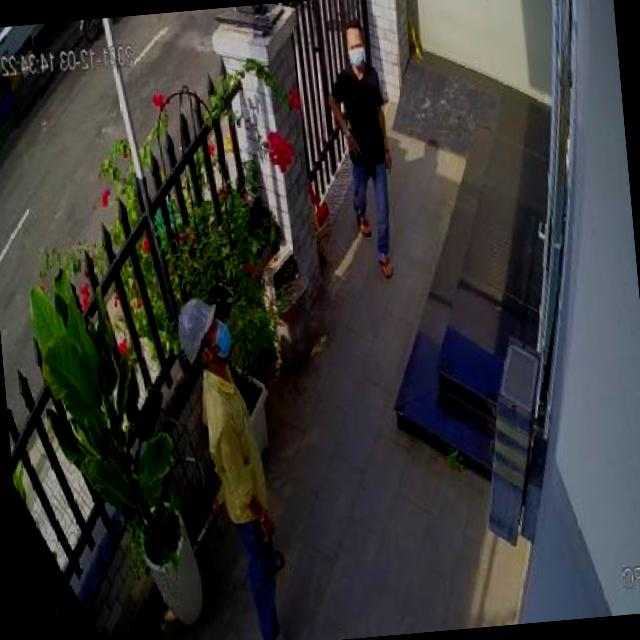Person: (173, 292, 288, 640), (320, 16, 401, 282)
